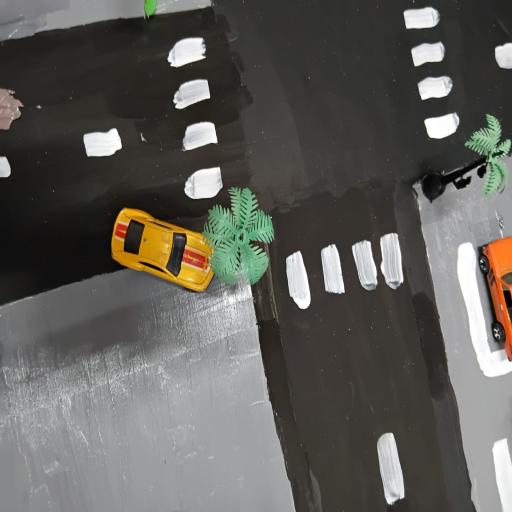car crash: (109, 194, 220, 298)
porthole: (1, 81, 25, 139)
